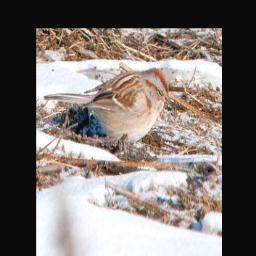Sparrow: (44, 66, 173, 160)
